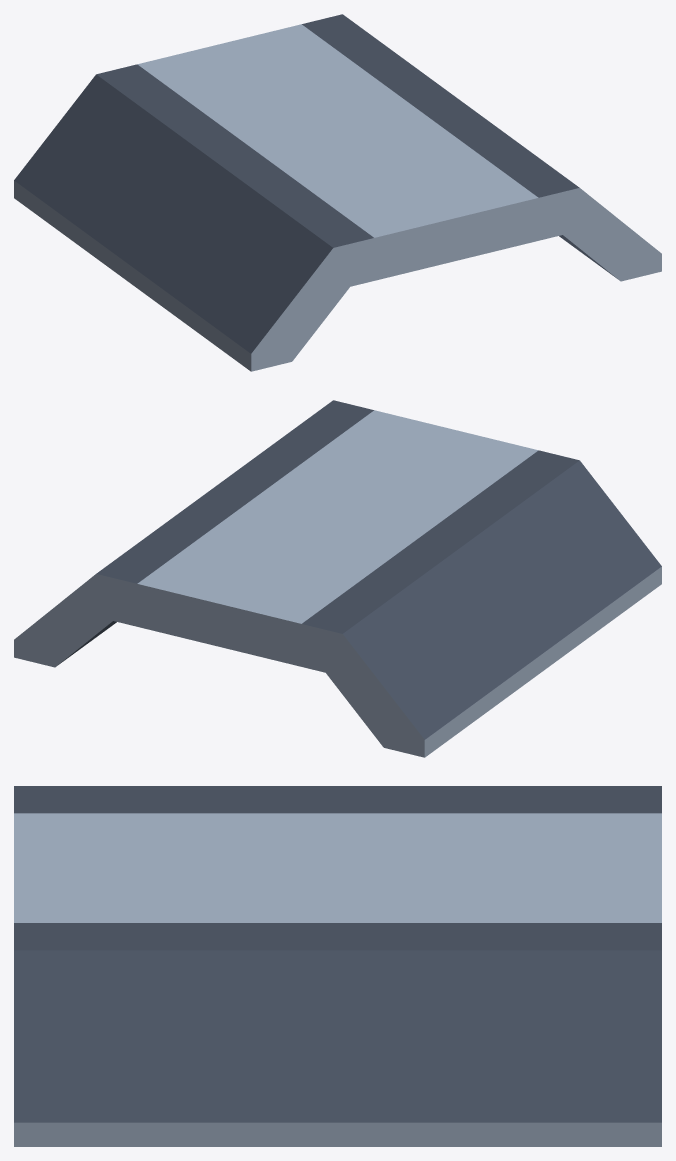
The model's file is corridor_roof.glb.
The picture shows the model from 3 angles, top to bottom: view 1: azimuth 30°, elevation 25°; view 2: azimuth 150°, elevation 25°; view 3: azimuth 270°, elevation 25°; orthographic projection. The views are drawn at different scales.
Parts seen in each view (by area): view 1: corridor_roof; view 2: corridor_roof; view 3: corridor_roof.
Boxes of the visible parts, bbox=[...] form: corridor_roof: bbox=[14, 14, 661, 371]; corridor_roof: bbox=[14, 400, 661, 757]; corridor_roof: bbox=[14, 786, 661, 1146].
Bounding box in the file's own units: 1 × 0.2414 × 1.
